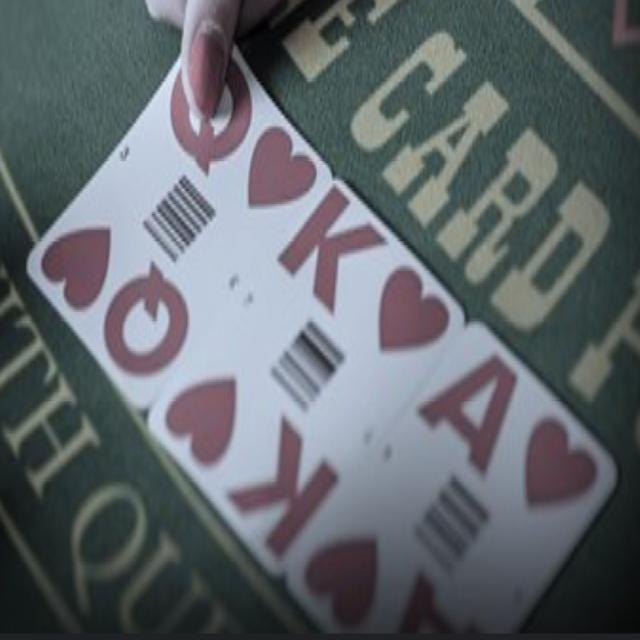Card-A: (286, 321, 618, 638)
Card-K: (148, 175, 465, 575)
Card-Q: (28, 41, 331, 414)
